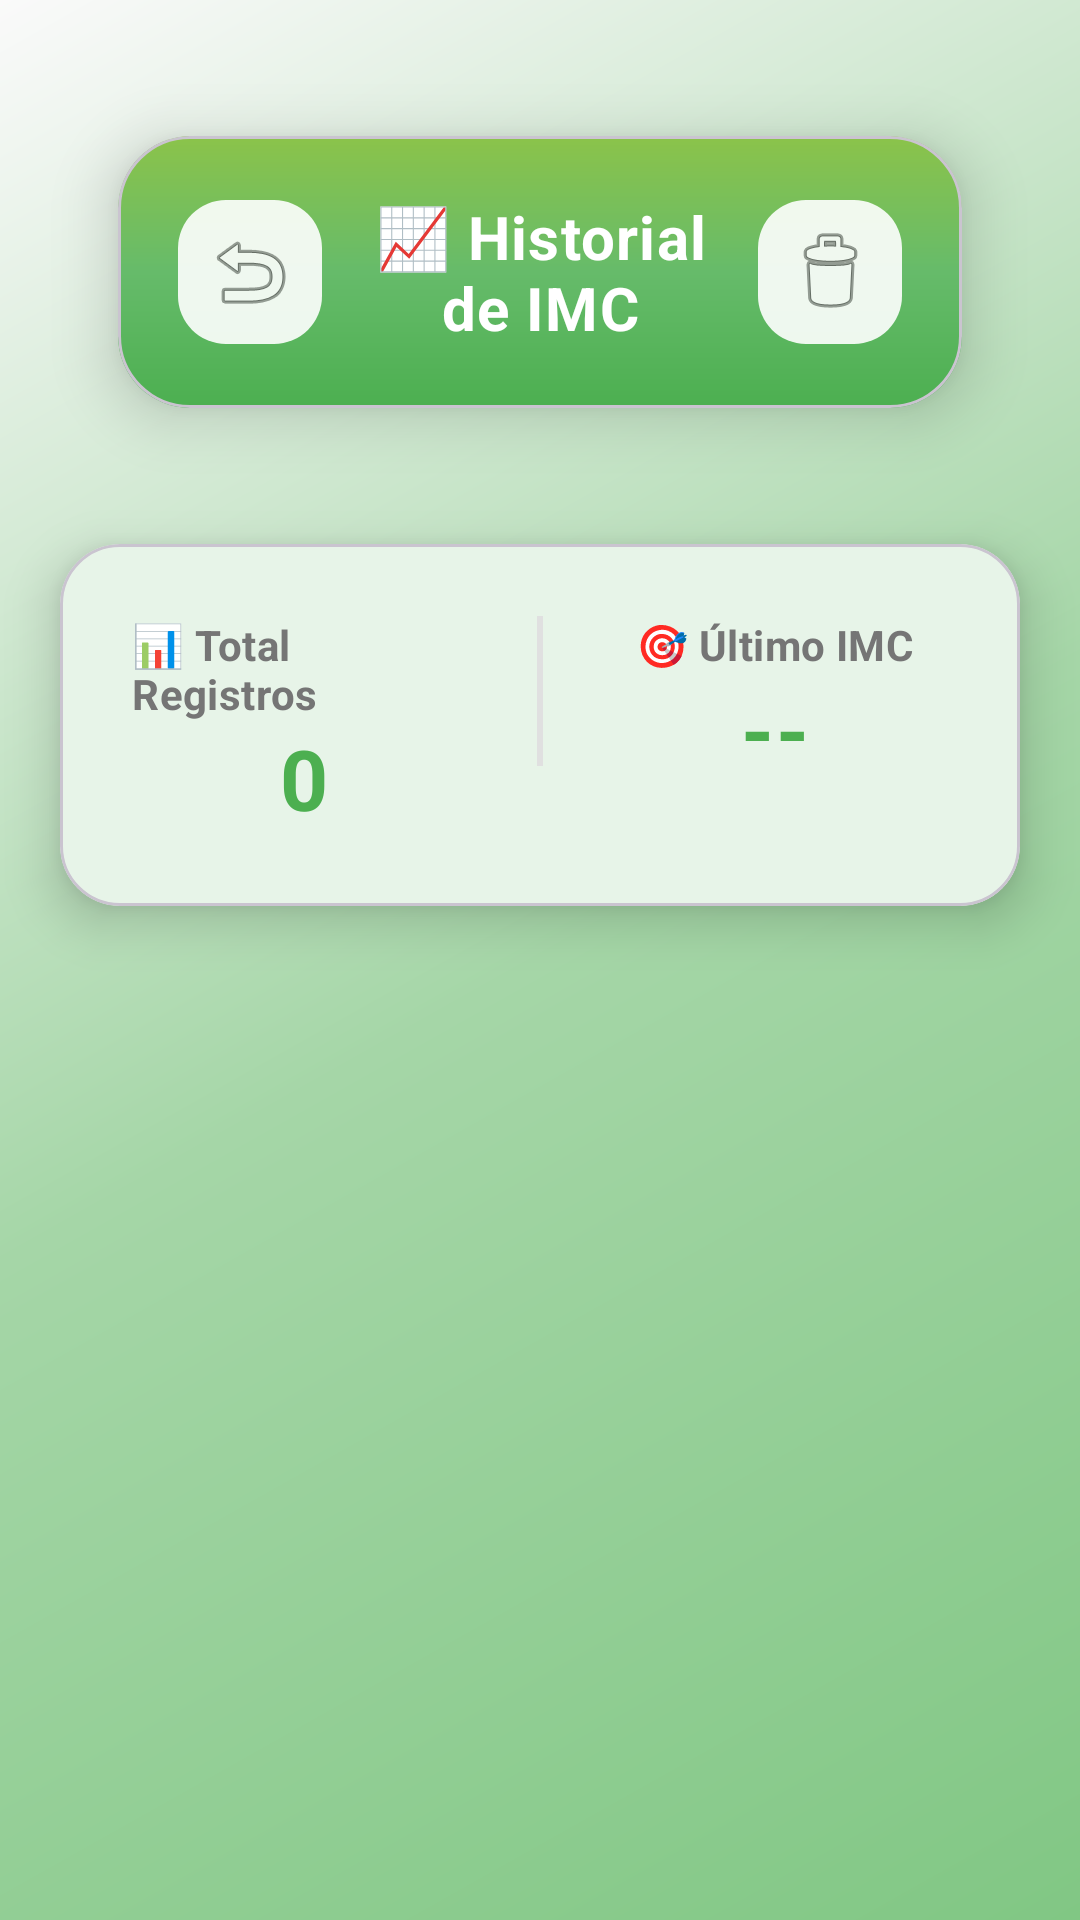

Where to tap for icons on this 1080*1920 app screen, as (x=x, y=y):
Limpiar historial: (x=830, y=272)
Volver: (x=250, y=272)
